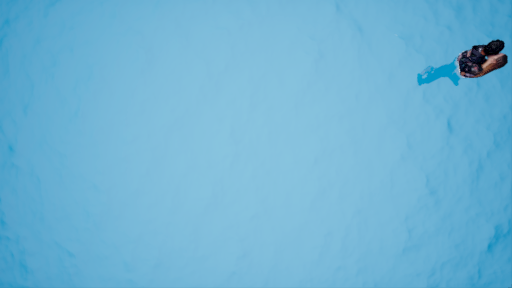person: (412, 38, 507, 87)
